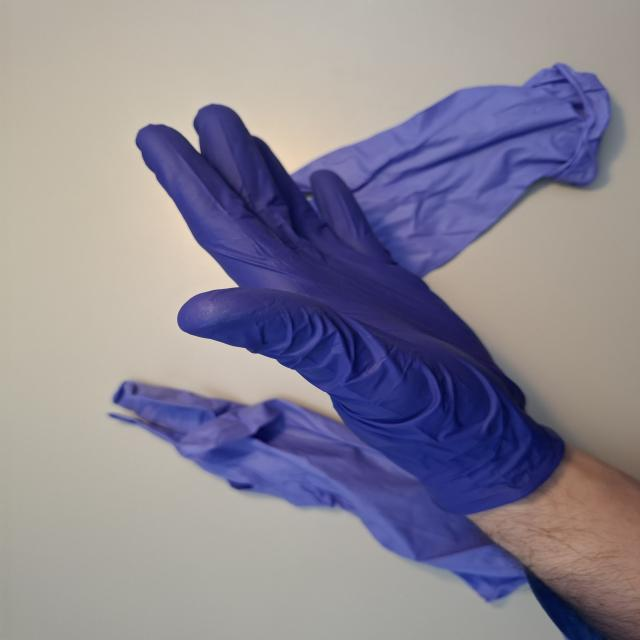glove_on: (130, 99, 563, 517)
